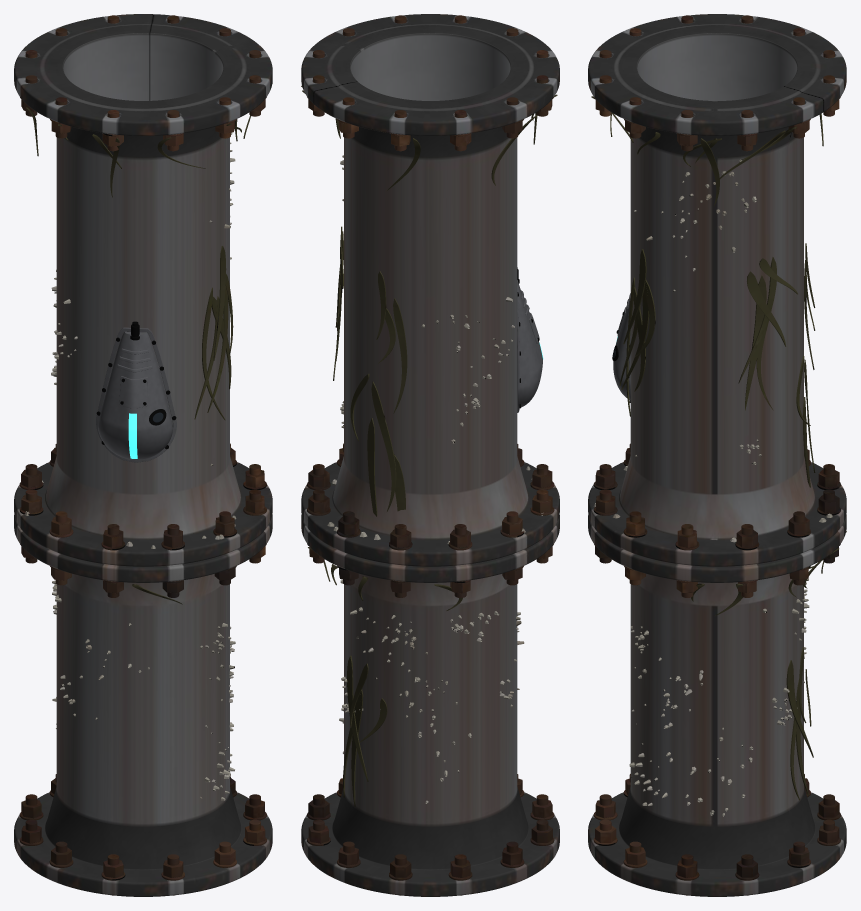
File: remora.glb
3 views of the same model, side by side, from view 1: azimuth 30°, elevation 25°; view 2: azimuth 150°, elevation 25°; view 3: azimuth 270°, elevation 25° (orthographic).
Parts seen in each view (by area): view 1: Pipe_Spool, Flange_Fasteners, Remora_Body, Growth_Seaweed, Growth_Barnacles, Remora_Baseplate, Remora_Panels, Remora_Hardware; view 2: Pipe_Spool, Flange_Fasteners, Growth_Seaweed, Growth_Barnacles, Remora_Body; view 3: Pipe_Spool, Flange_Fasteners, Growth_Seaweed, Growth_Barnacles, Remora_Body.
Boxes of the visible parts, <box> form: Pipe_Spool: <box>14,14,272,896</box>; Flange_Fasteners: <box>19,15,266,895</box>; Remora_Body: <box>98,331,172,460</box>; Growth_Seaweed: <box>26,83,272,604</box>; Growth_Barnacles: <box>24,132,236,800</box>; Remora_Baseplate: <box>96,327,176,462</box>; Remora_Panels: <box>117,348,152,408</box>; Remora_Hardware: <box>96,321,176,449</box>; Pipe_Spool: <box>301,14,559,896</box>; Flange_Fasteners: <box>307,15,554,895</box>; Growth_Seaweed: <box>301,85,557,806</box>; Growth_Barnacles: <box>327,155,543,803</box>; Remora_Body: <box>517,280,542,407</box>; Pipe_Spool: <box>588,14,846,896</box>; Flange_Fasteners: <box>593,15,840,895</box>; Growth_Seaweed: <box>591,96,846,800</box>; Growth_Barnacles: <box>593,159,832,816</box>; Remora_Body: <box>613,301,630,399</box>.
Bounding box in the file's own units: 0.4831 × 1.61 × 0.4831.
Materials: 11 (9 with a texture image).
